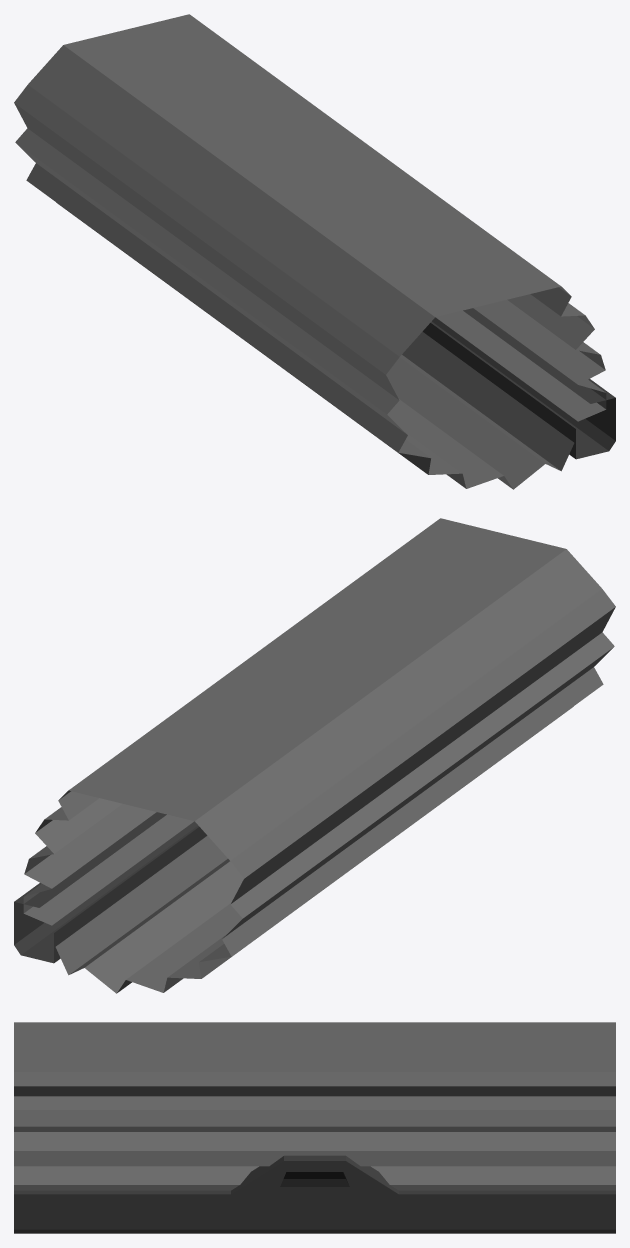
Rendered from door_garage_fullup.FBX.
3 views of the same model, one above another, from view 1: azimuth 30°, elevation 25°; view 2: azimuth 150°, elevation 25°; view 3: azimuth 270°, elevation 25° (orthographic). The views are drawn at different scales.
Visible parts, largest first — view 1: door_garage_fullup; view 2: door_garage_fullup; view 3: door_garage_fullup.
Boxes of the visible parts, box(x1,y1,x2,y2) form: door_garage_fullup: box(14, 14, 615, 489); door_garage_fullup: box(14, 518, 615, 993); door_garage_fullup: box(14, 1022, 615, 1233).
Size of the model in its own units: 48.79 by 38.84 by 137.
